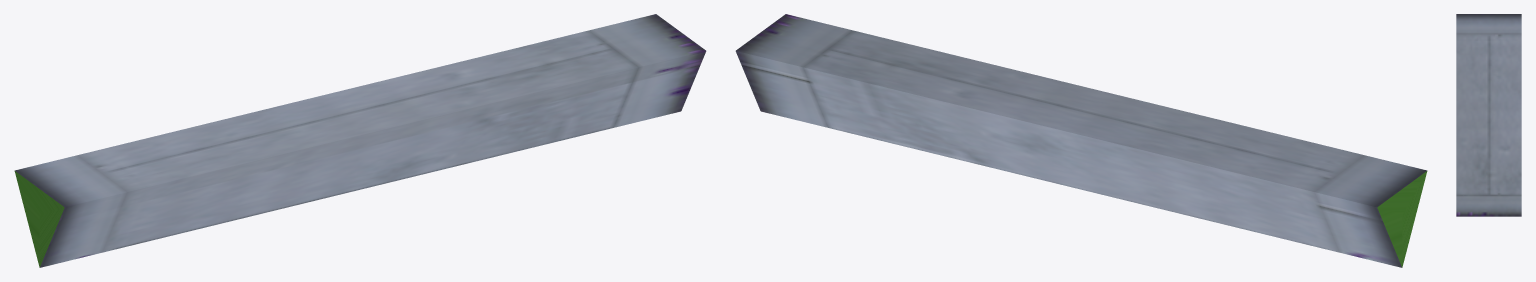
3 views of the same model, side by side, from view 1: azimuth 30°, elevation 25°; view 2: azimuth 150°, elevation 25°; view 3: azimuth 270°, elevation 25° (orthographic). The views are drawn at different scales.
Parts seen in each view (by area): view 1: Cylinder14; view 2: Cylinder14; view 3: Cylinder14.
Part boxes in pixels (x1,y1,x2,y2): Cylinder14: (14,14,706,267); Cylinder14: (735,14,1427,267); Cylinder14: (1456,14,1521,216).
Bounding box in the file's own units: 409 × 48.13 × 55.58.
2 materials, 2 textured.
